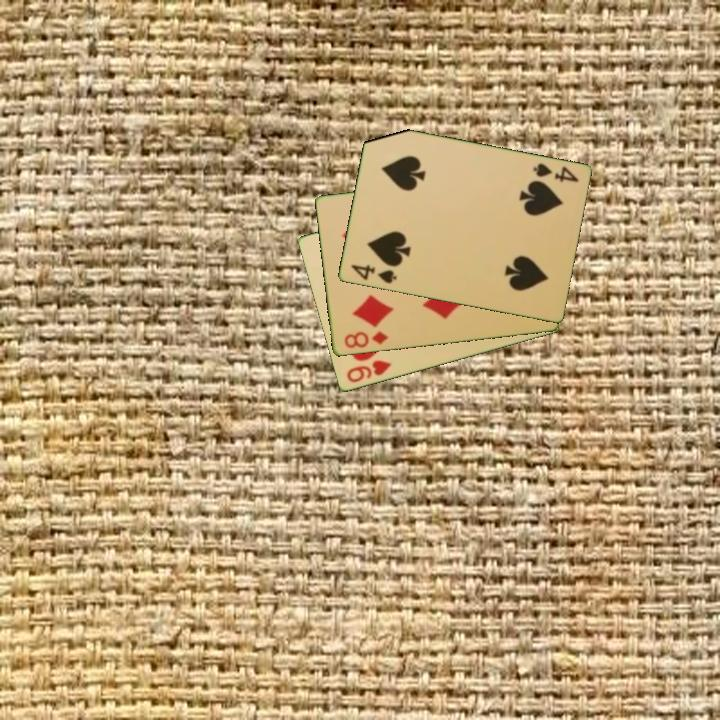4s: (347, 261, 399, 287), (529, 160, 581, 185)
8d: (340, 328, 391, 351)
9h: (343, 357, 394, 386)
